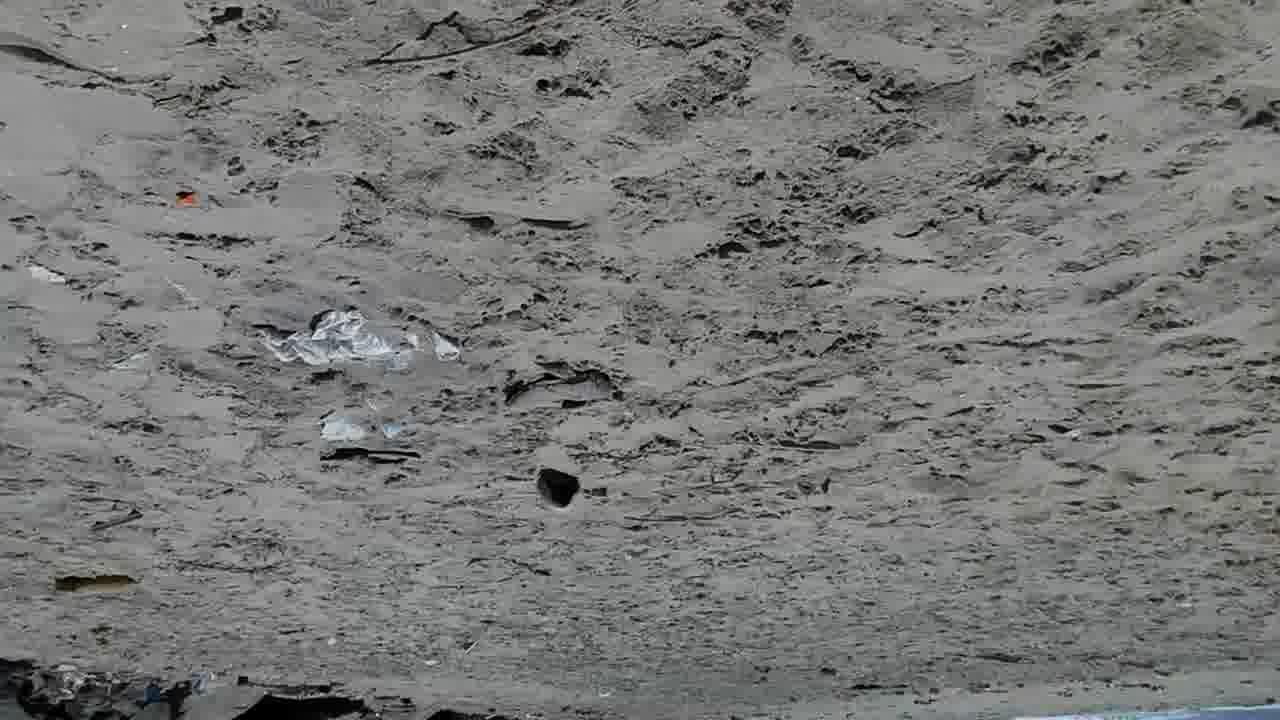large collection of objects: (3, 660, 494, 718)
obj: (352, 1, 599, 78), (253, 304, 467, 376), (504, 356, 630, 414), (316, 398, 412, 442), (178, 546, 307, 574), (314, 446, 427, 476), (530, 466, 586, 512), (53, 572, 142, 598), (298, 371, 344, 402), (172, 188, 204, 212)
sand/background: (829, 693, 1279, 719)
